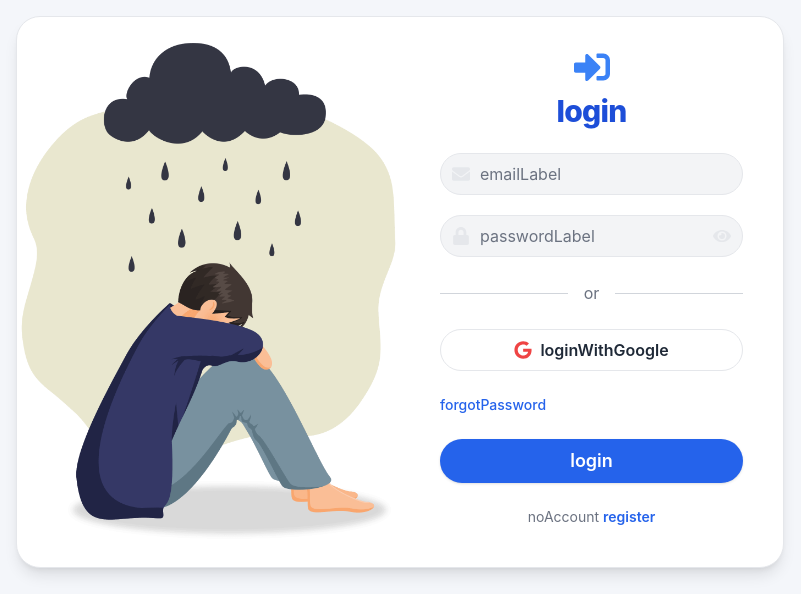
Test: LoginForm › shows loading state during login
Type "test@example.com" into the field at point(592, 174), box [440,153,743,195]
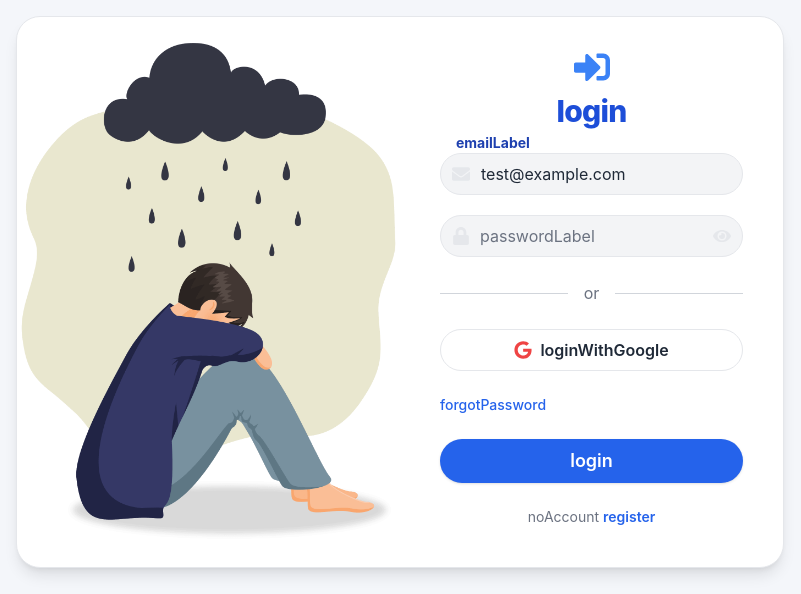
Type "password123" into the password field at point(592, 236), box [440,215,743,257]
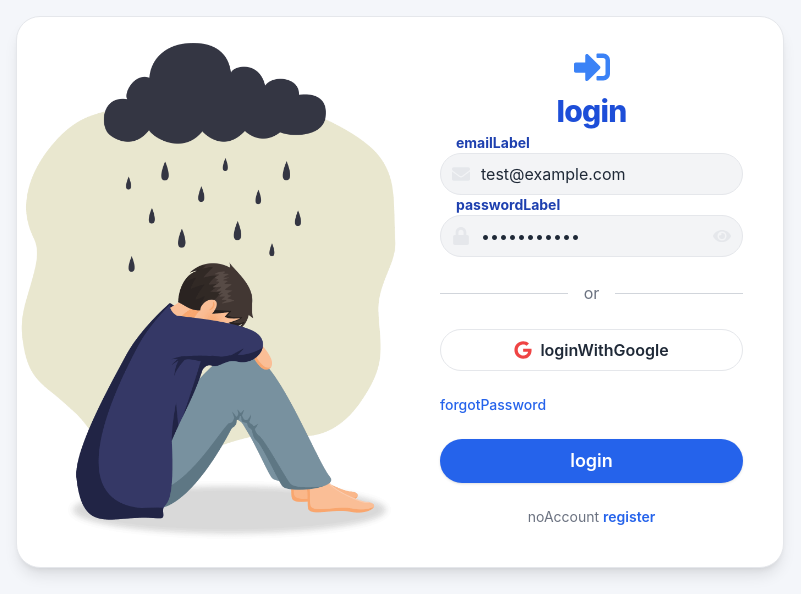
Click the button "login" at point(592, 461), box [440,439,743,483]
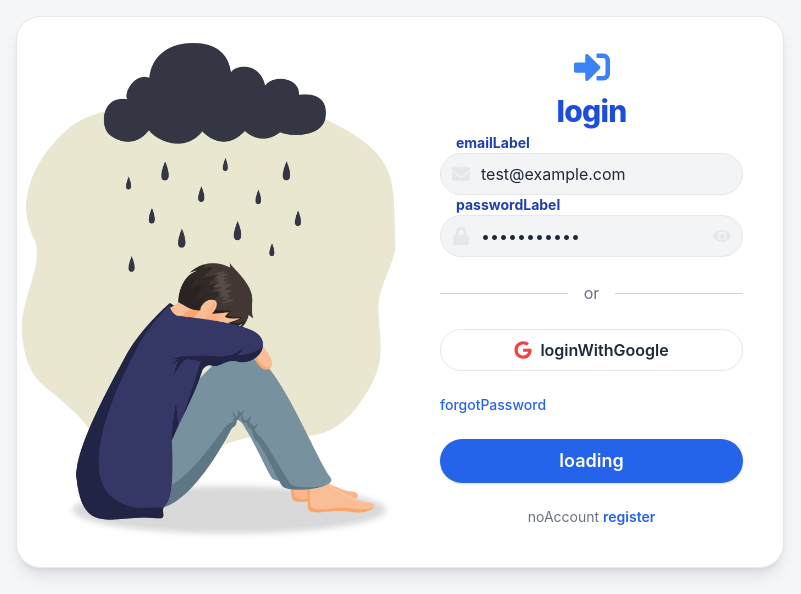
expect the button named "login" is disabled: met, box [440,439,743,483]
